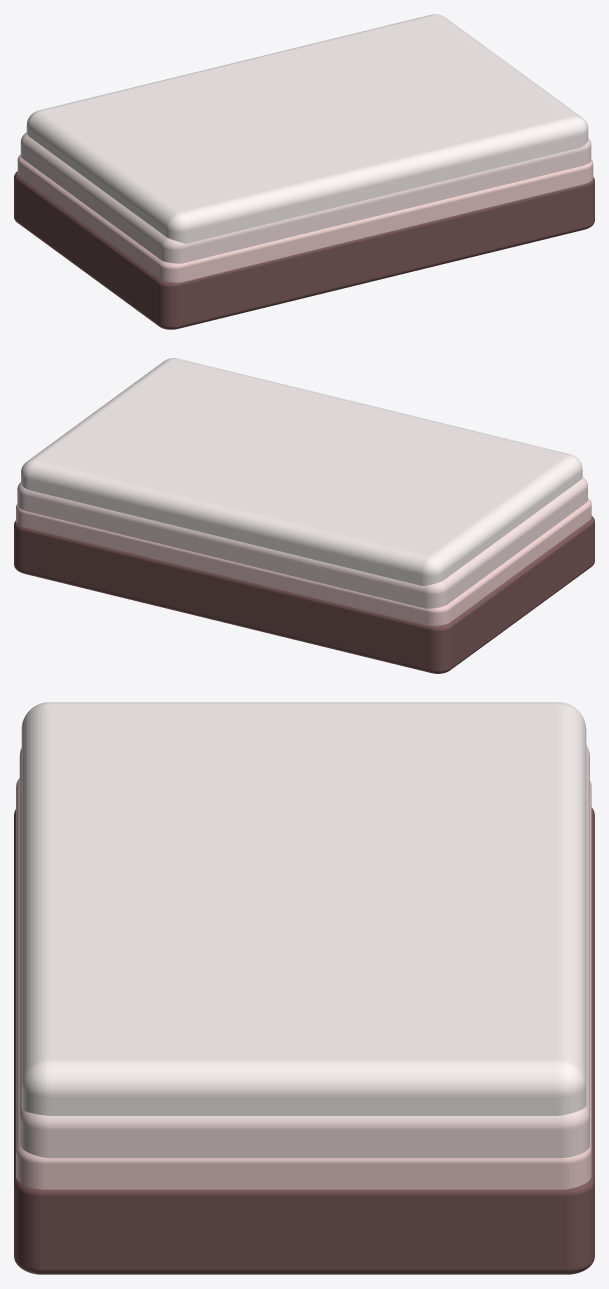
File: boloretangulo ciasto.glb
The picture shows the model from 3 angles, top to bottom: view 1: azimuth 30°, elevation 25°; view 2: azimuth 150°, elevation 25°; view 3: azimuth 270°, elevation 25°; orthographic projection. The views are drawn at different scales.
Parts seen in each view (by area): view 1: Cube.003, Cube.002, Cube.000, Cube.001; view 2: Cube.003, Cube.002, Cube.000, Cube.001; view 3: Cube.003, Cube.002, Cube.000, Cube.001.
Part boxes in pixels (left/top/right/bottom): Cube.003: left=26, top=14, right=588, bottom=243; Cube.002: left=14, top=171, right=594, bottom=329; Cube.000: left=20, top=132, right=591, bottom=263; Cube.001: left=17, top=155, right=593, bottom=282; Cube.003: left=21, top=358, right=582, bottom=585; Cube.002: left=14, top=516, right=594, bottom=673; Cube.000: left=17, top=477, right=587, bottom=608; Cube.001: left=16, top=498, right=591, bottom=625; Cube.003: left=21, top=702, right=586, bottom=1115; Cube.002: left=14, top=807, right=594, bottom=1274; Cube.000: left=19, top=745, right=589, bottom=1158; Cube.001: left=16, top=778, right=591, bottom=1189.
Size of the model in its own units: 3.43 by 0.8379 by 2.14.
